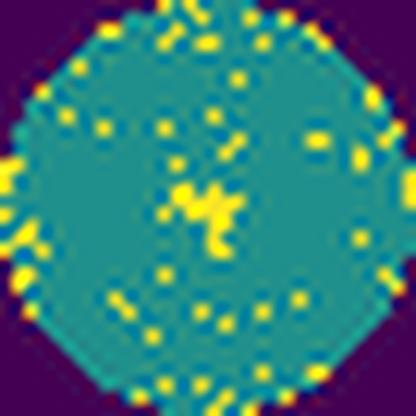Center: (155, 176, 250, 263)
